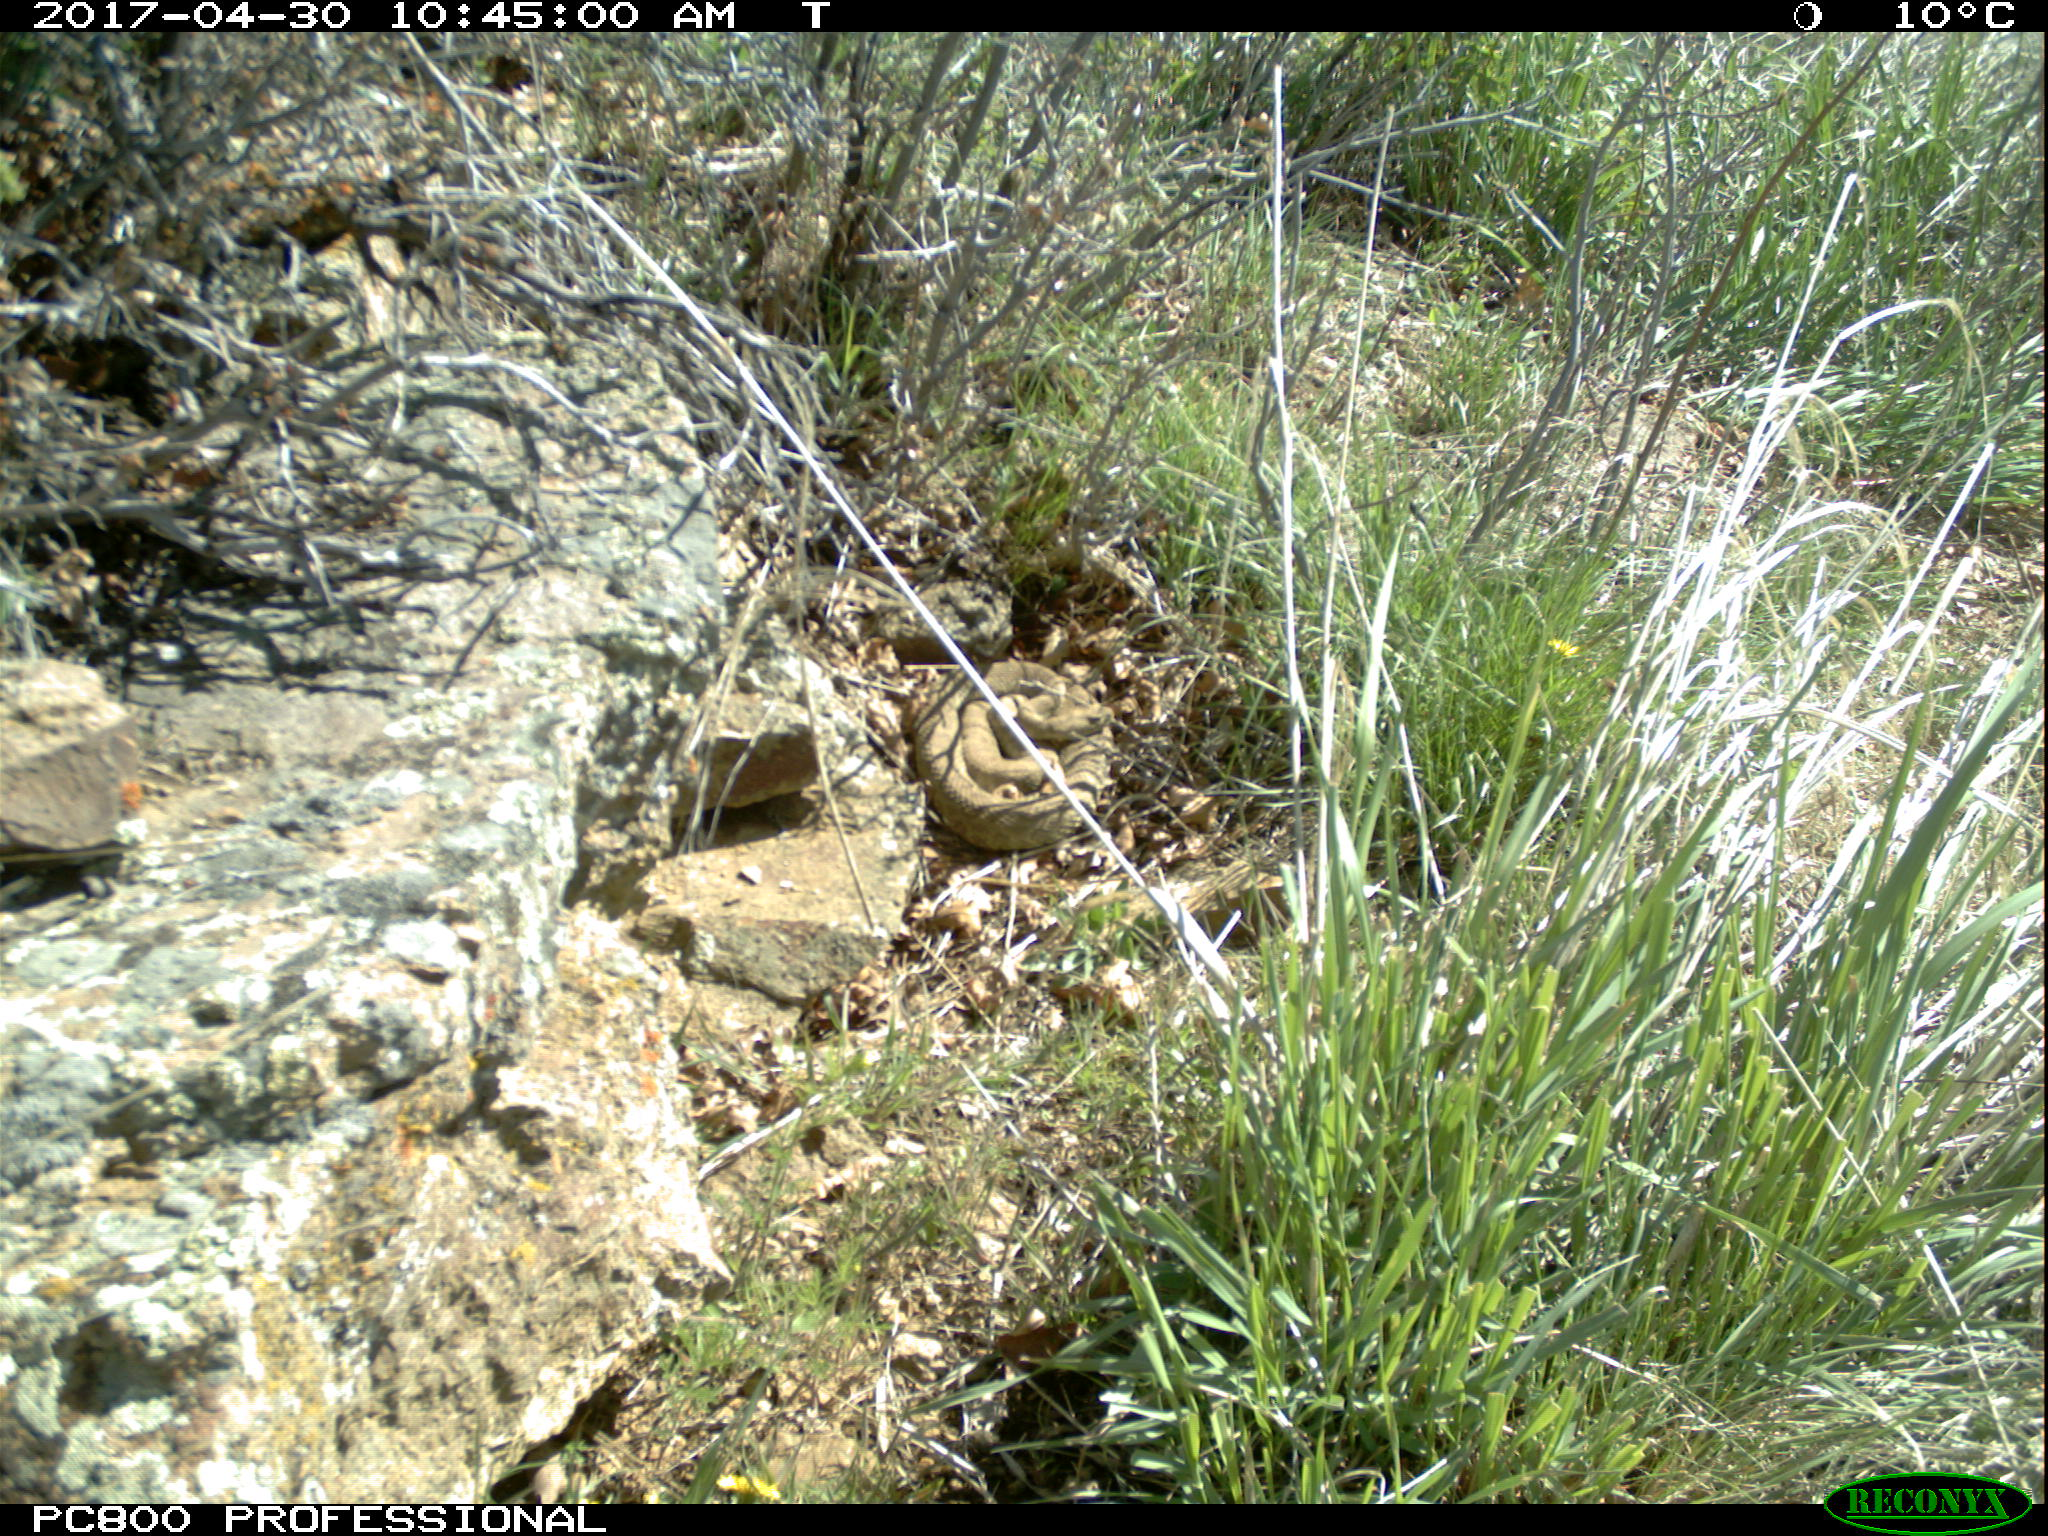snake: (906, 655, 1127, 854)
